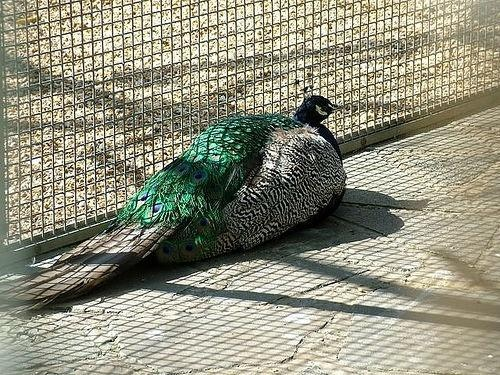bird: (5, 93, 351, 313)
